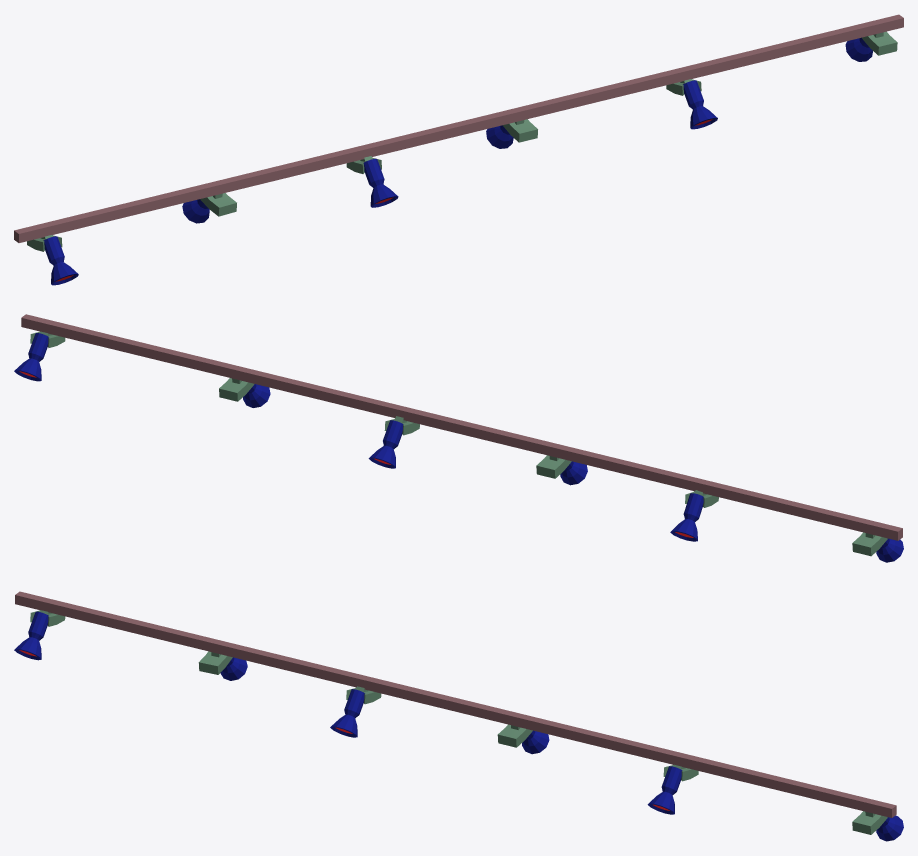
File: Upphamging_lampa_ovanfor_scendelen_new_uv.fbx
3 renders of one model, top to bottom at view 1: azimuth 30°, elevation 25°; view 2: azimuth 150°, elevation 25°; view 3: azimuth 330°, elevation 25°, orthographic.
Parts seen in each view (by area): view 1: pCylinder3; view 2: pCylinder3; view 3: pCylinder3.
Boxes of the visible parts, <box> form: pCylinder3: <box>14,14,903,285</box>; pCylinder3: <box>14,314,903,562</box>; pCylinder3: <box>14,591,903,841</box>.
Size of the model in its own units: 941 by 50.5 by 92.33.
